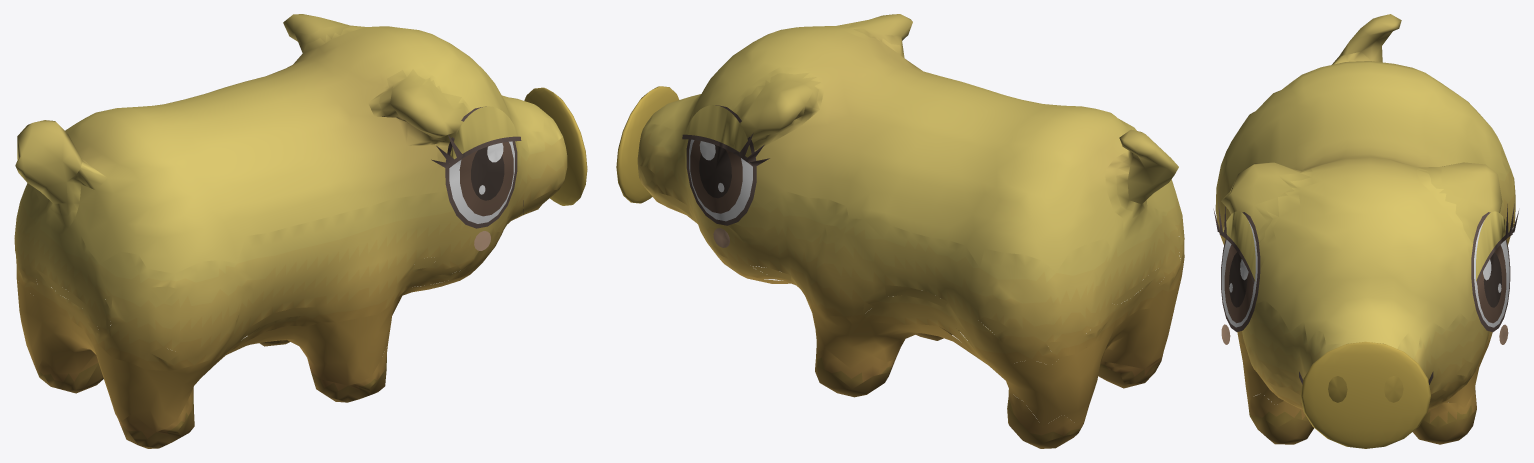
File: golden_piglet.glb
3 views of the same model, side by side, from view 1: azimuth 30°, elevation 25°; view 2: azimuth 150°, elevation 25°; view 3: azimuth 270°, elevation 25° (orthographic).
Parts seen in each view (by area): view 1: golden_piglet; view 2: golden_piglet; view 3: golden_piglet.
Boxes of the visible parts, x1=… form: golden_piglet: x1=14, y1=14, x2=587, y2=448; golden_piglet: x1=616, y1=14, x2=1184, y2=448; golden_piglet: x1=1213, y1=14, x2=1518, y2=448.
Size of the model in its own units: 0.5462 by 0.2968 by 0.2695.
